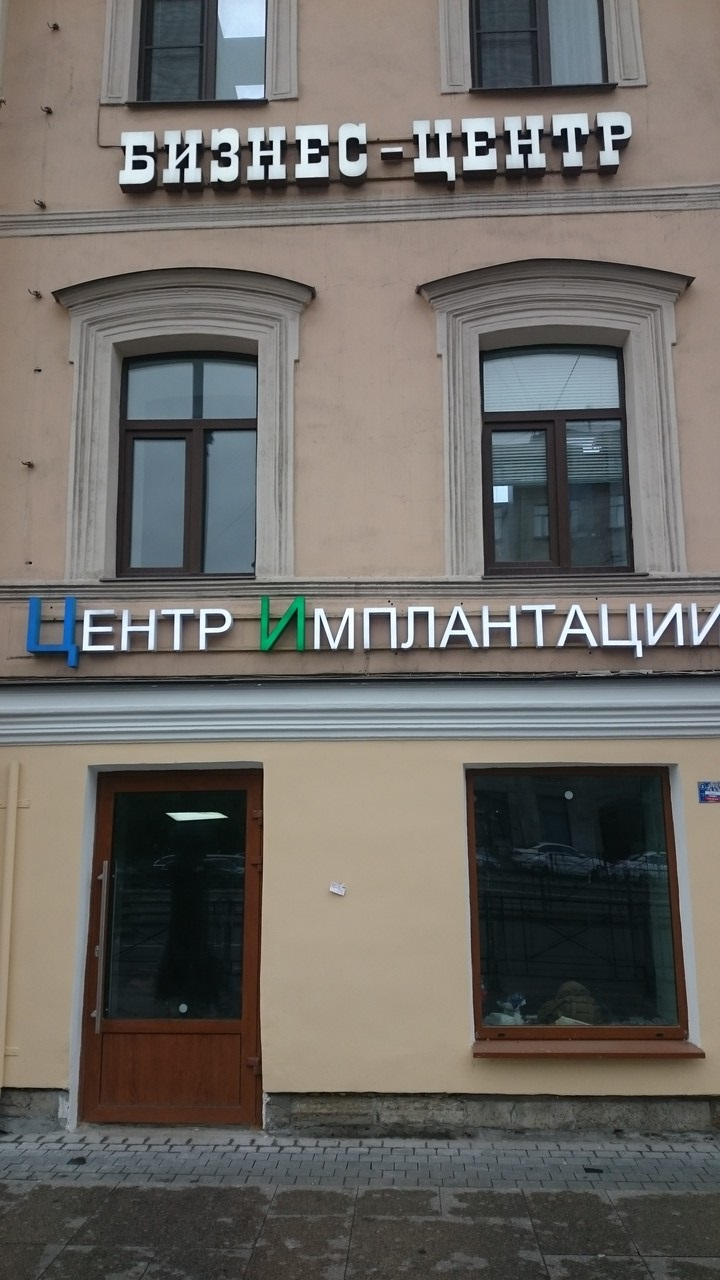door: (82, 771, 260, 1131)
signboard: (27, 597, 720, 665), (118, 113, 630, 187)
window: (466, 766, 678, 1050), (481, 344, 628, 578), (116, 350, 259, 587)
